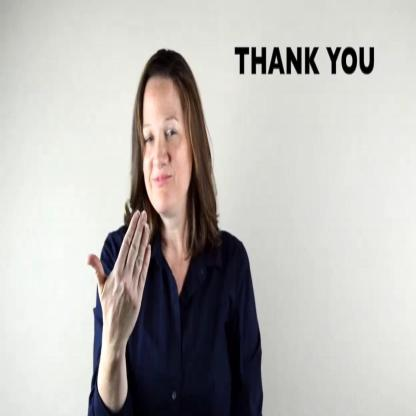ThankYou: (85, 44, 227, 333)
